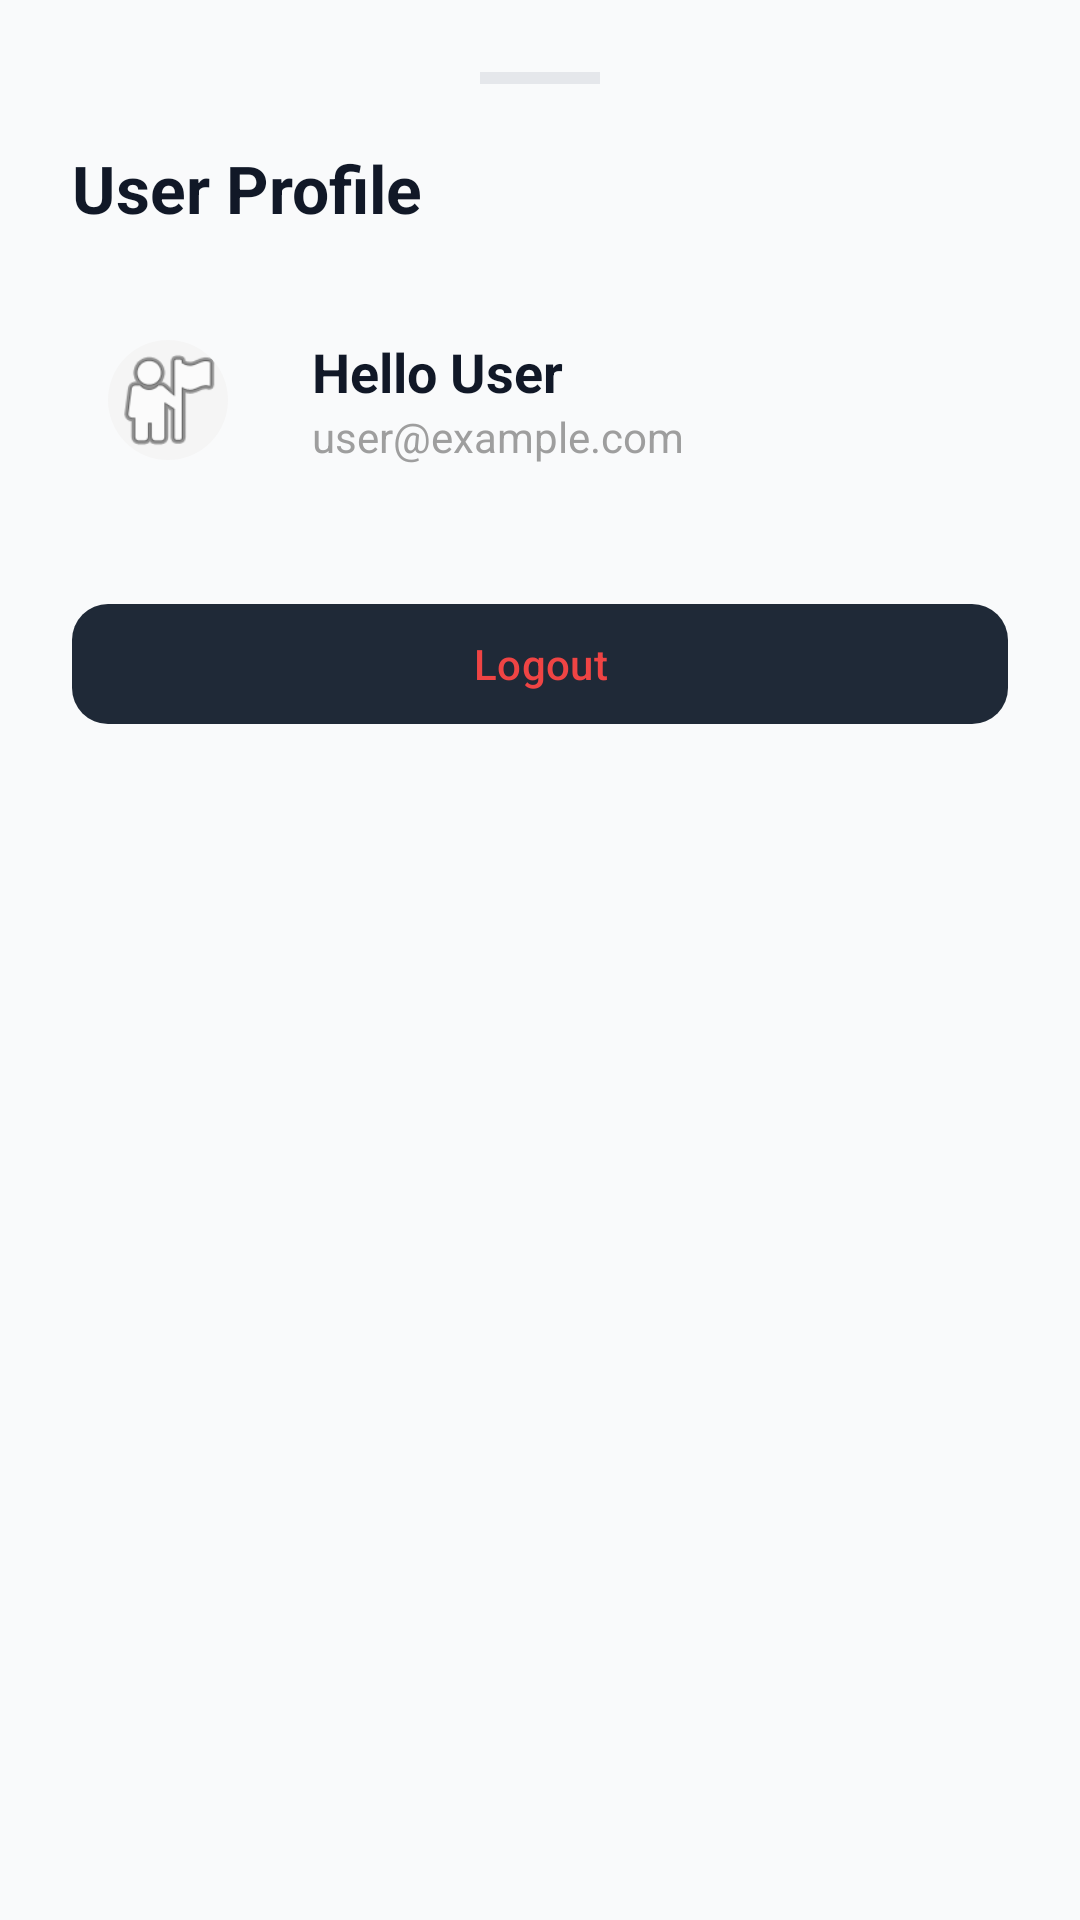

Locate icon controls on the screen. Image size 1080 × 1920, boxes as (x1, y1, x2, y2).
myplaces: (124, 355, 215, 445)
